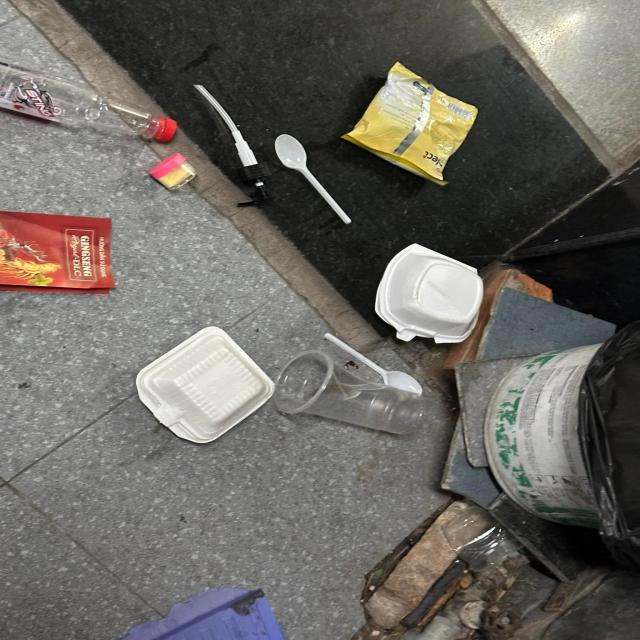bottle: (0, 59, 175, 142)
foam box: (137, 327, 274, 444), (375, 243, 483, 343)
paper: (0, 210, 117, 296)
plastic glass: (272, 352, 428, 436)
plastic holder: (150, 153, 198, 190)
plastic utensil: (274, 133, 351, 225), (197, 86, 264, 190), (323, 332, 424, 398)
snack package: (340, 60, 477, 187)
